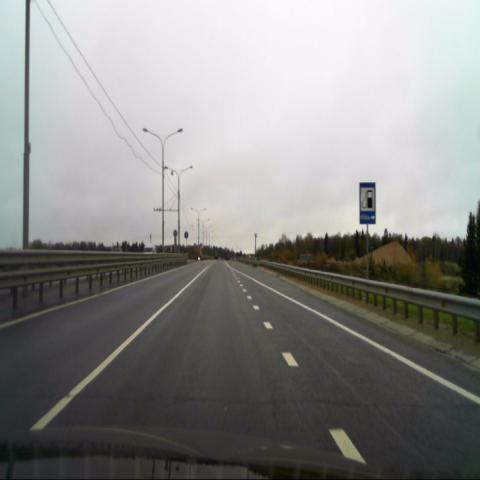7_3: (359, 181, 376, 225)
